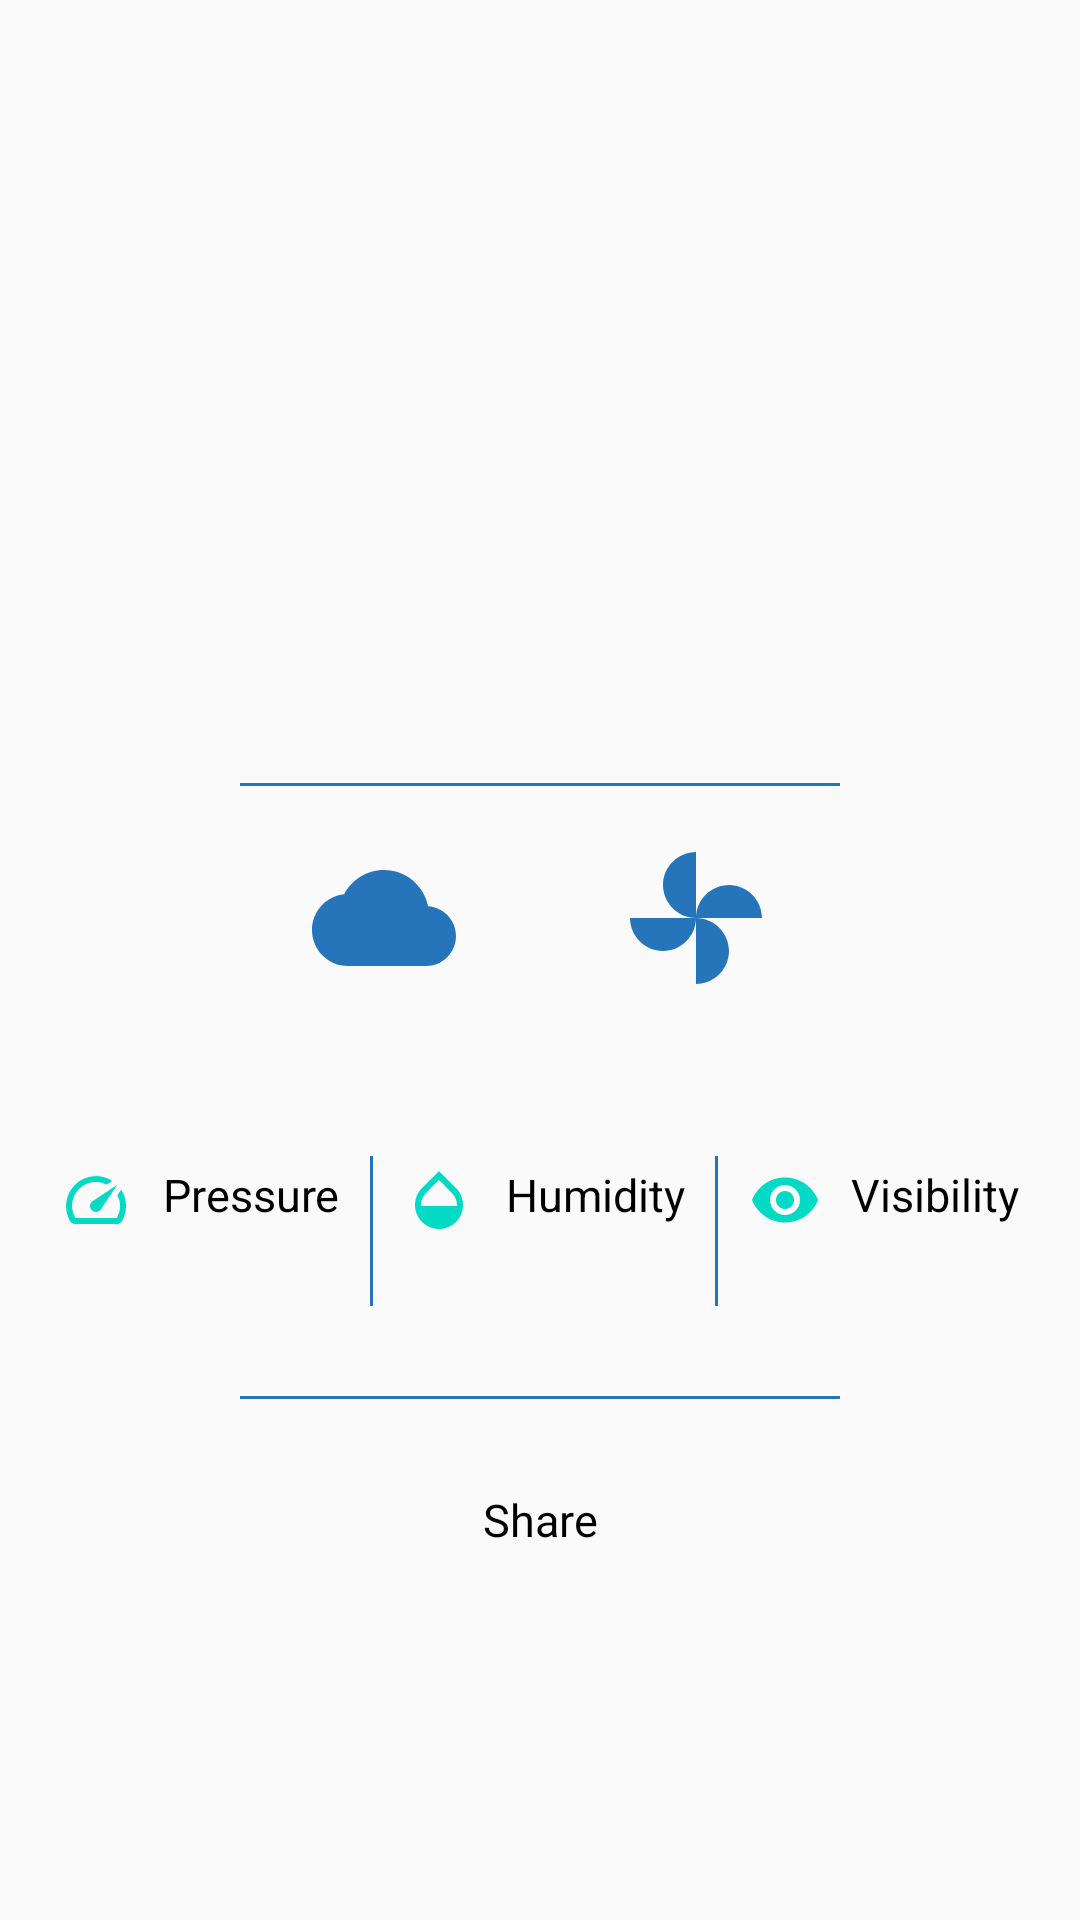

Locate icon controls on the screen. Image size 1080w x 1920h, boxes as bbox=[x1, y1, x2, y2].
cloud: bbox=[312, 870, 456, 966]
toys: bbox=[630, 852, 762, 984]
